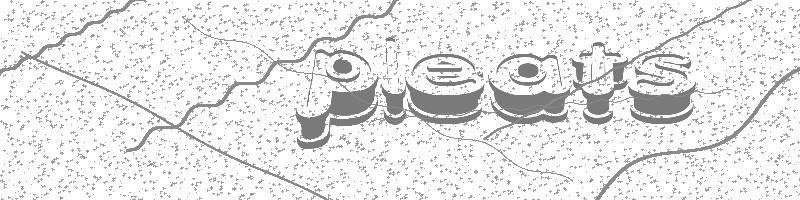a: (489, 54, 570, 123)
e: (406, 54, 484, 124)
l: (379, 37, 407, 125)
p: (297, 49, 378, 149)
s: (630, 54, 695, 123)
t: (571, 43, 624, 125)
